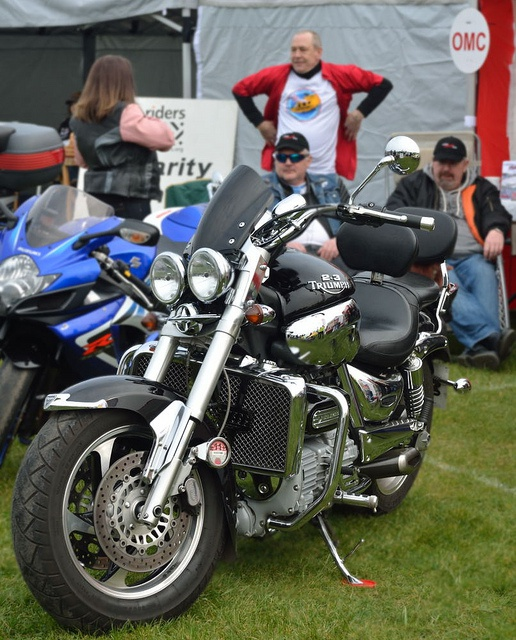non-vehicle: (11, 139, 453, 630), (2, 194, 201, 473)
